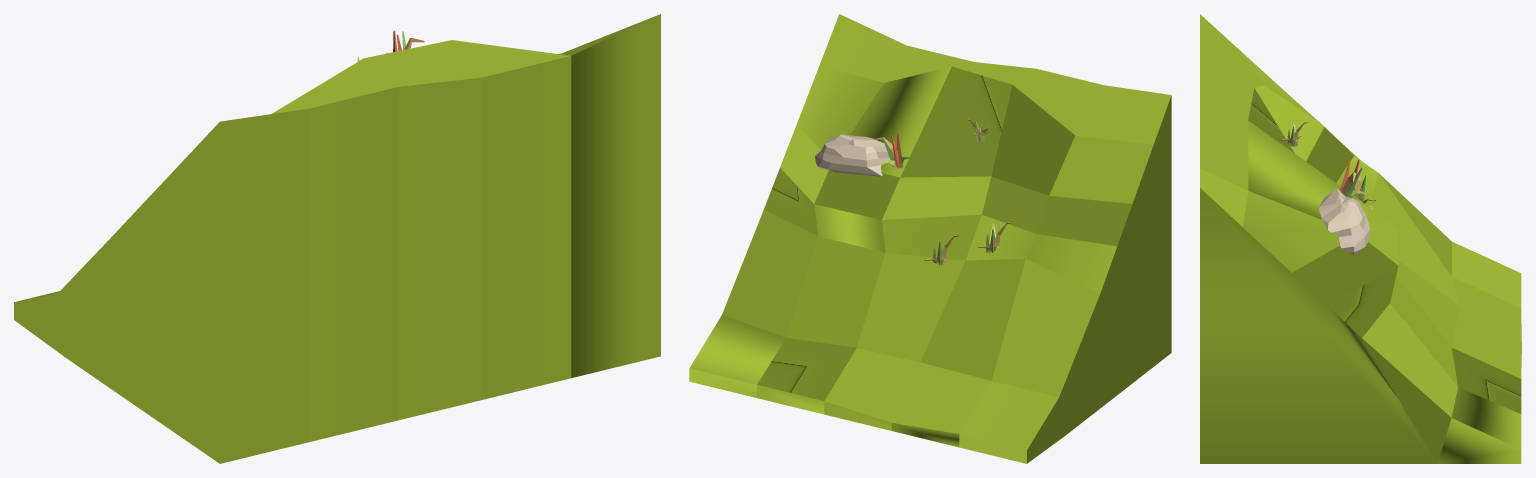
Rendered from wand_1_MOD.fbx.
3 views of the same model, side by side, from view 1: azimuth 30°, elevation 25°; view 2: azimuth 150°, elevation 25°; view 3: azimuth 270°, elevation 25° (orthographic). The views are drawn at different scales.
Visible parts, largest first — view 1: zeiwand; view 2: zeiwand, rock_2_MOD, grasses_3_MOD; view 3: zeiwand, rock_2_MOD, grasses_3_MOD.
Part boxes in pixels (<box>): zeiwand: <box>14,14,660,463</box>; zeiwand: <box>689,14,1171,463</box>; rock_2_MOD: <box>815,134,890,176</box>; grasses_3_MOD: <box>874,132,911,168</box>; zeiwand: <box>1200,14,1521,463</box>; rock_2_MOD: <box>1319,188,1370,254</box>; grasses_3_MOD: <box>1339,158,1365,197</box>.
Bounding box in the file's own units: 50 × 36.53 × 38.57.
